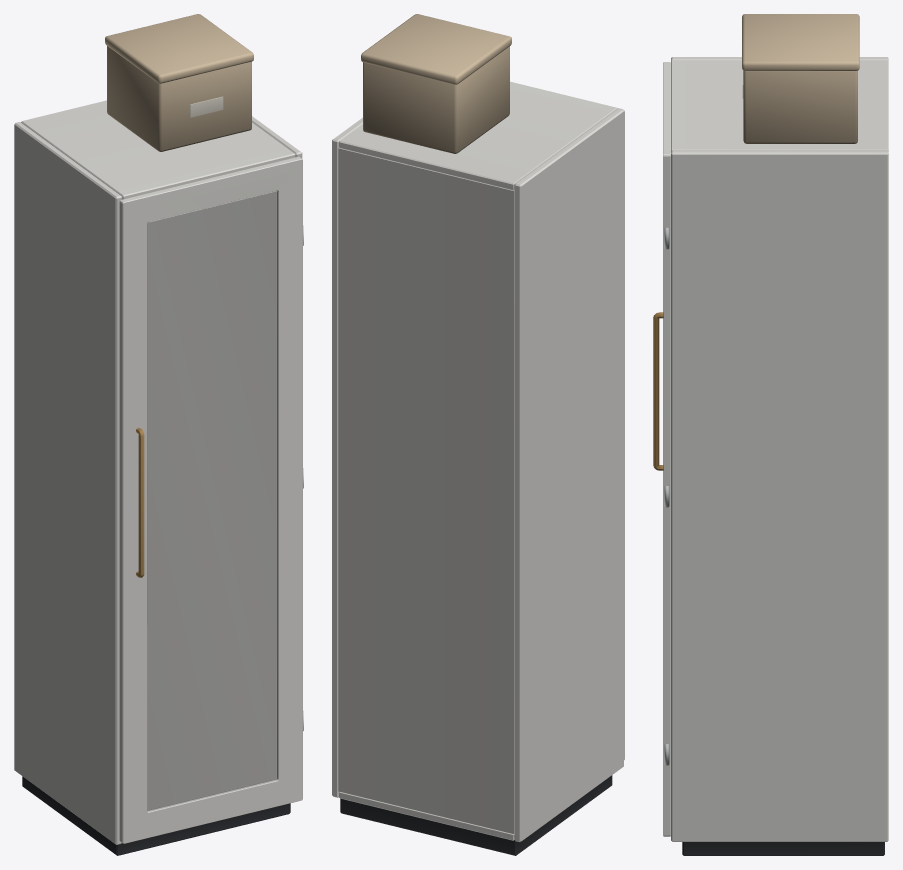
File: wardrobeSingle.glb
3 renders of one model, left to right at view 1: azimuth 30°, elevation 25°; view 2: azimuth 150°, elevation 25°; view 3: azimuth 270°, elevation 25°, orthographic. The views are drawn at different scales.
Visible parts, largest first — view 1: door, wardrobeSingle; view 2: wardrobeSingle, door; view 3: wardrobeSingle, door.
Boxes of the visible parts, <box> form: door: <box>119,156,302,843</box>; wardrobeSingle: <box>14,14,303,855</box>; wardrobeSingle: <box>332,14,623,855</box>; door: <box>510,81,624,759</box>; wardrobeSingle: <box>664,14,888,855</box>; door: <box>653,62,670,836</box>.
Bounding box in the file's own units: 0.6 × 2.28 × 0.616.
